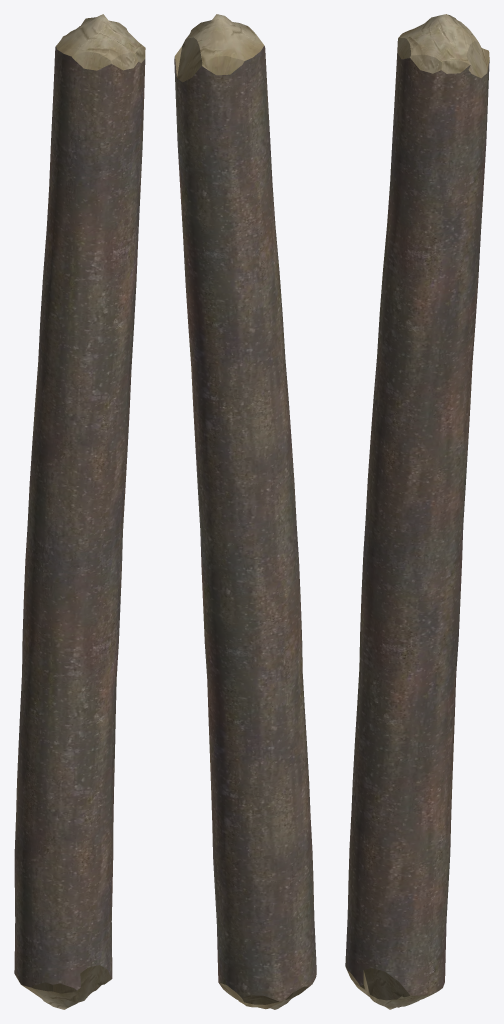
3 renders of one model, left to right at view 1: azimuth 30°, elevation 25°; view 2: azimuth 150°, elevation 25°; view 3: azimuth 330°, elevation 25°, orthographic. The views are drawn at different scales.
Visible parts, largest first — view 1: SM_BM_Ash_Tree_02_half_top_LOD0; view 2: SM_BM_Ash_Tree_02_half_top_LOD0; view 3: SM_BM_Ash_Tree_02_half_top_LOD0.
Part boxes in pixels (<box>): SM_BM_Ash_Tree_02_half_top_LOD0: <box>14,14,145,1009</box>; SM_BM_Ash_Tree_02_half_top_LOD0: <box>174,14,316,1009</box>; SM_BM_Ash_Tree_02_half_top_LOD0: <box>345,14,489,1009</box>.
Bounding box in the file's own units: 0.5587 × 4.24 × 0.4064.
Materials: 1 (1 with a texture image).
